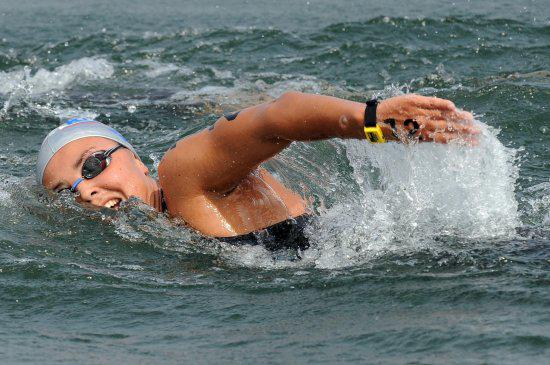human: (35, 86, 480, 260)
